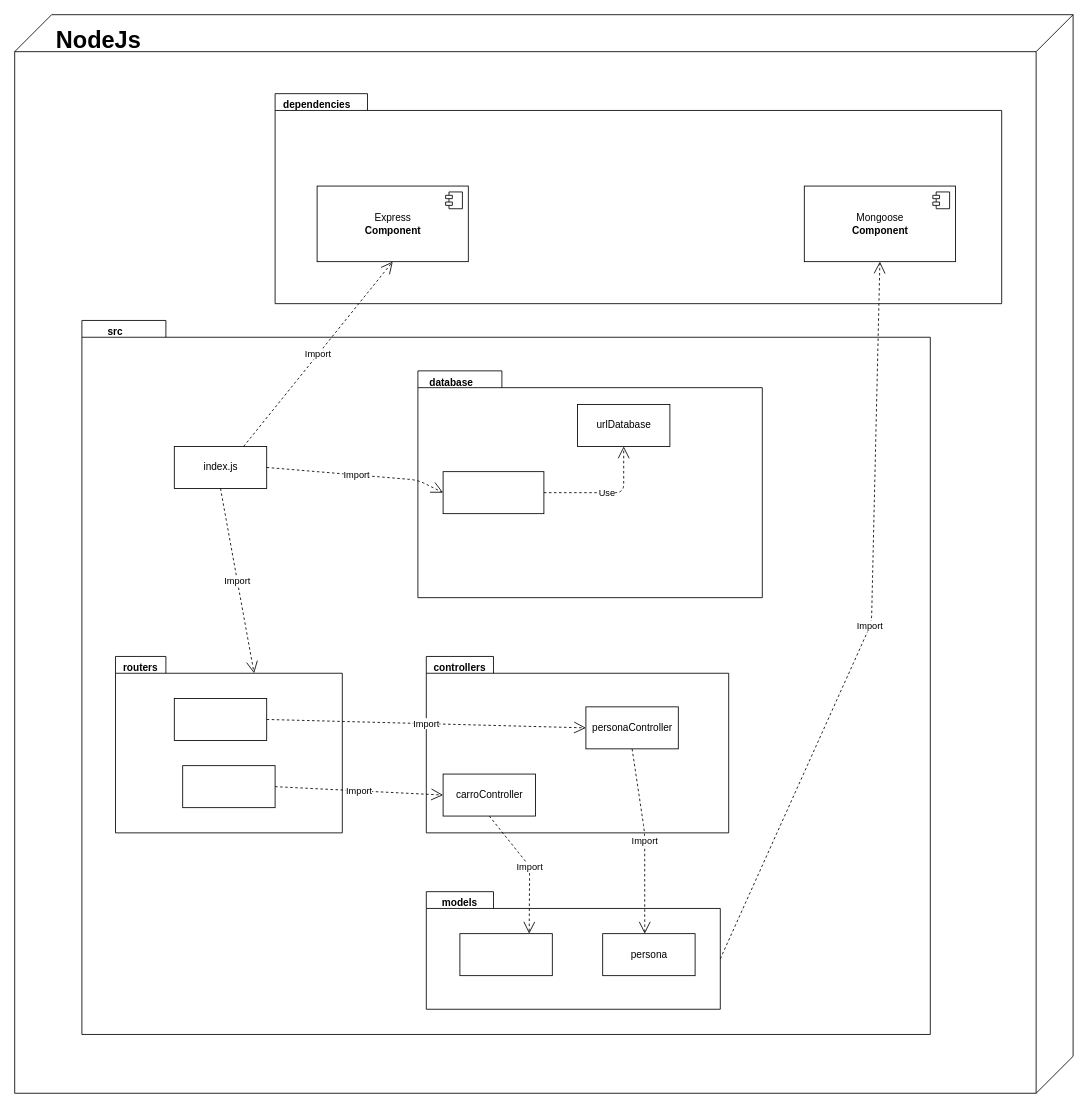
Some shapes in this 1088 by 1108 pixel diagram are drawn without their labels. The centre of each missing label's shape, as x and y in pixels:
carro: [505,954]
carroRouter: [228,786]
databaseConnection: [493,492]
personaRouter: [220,719]
